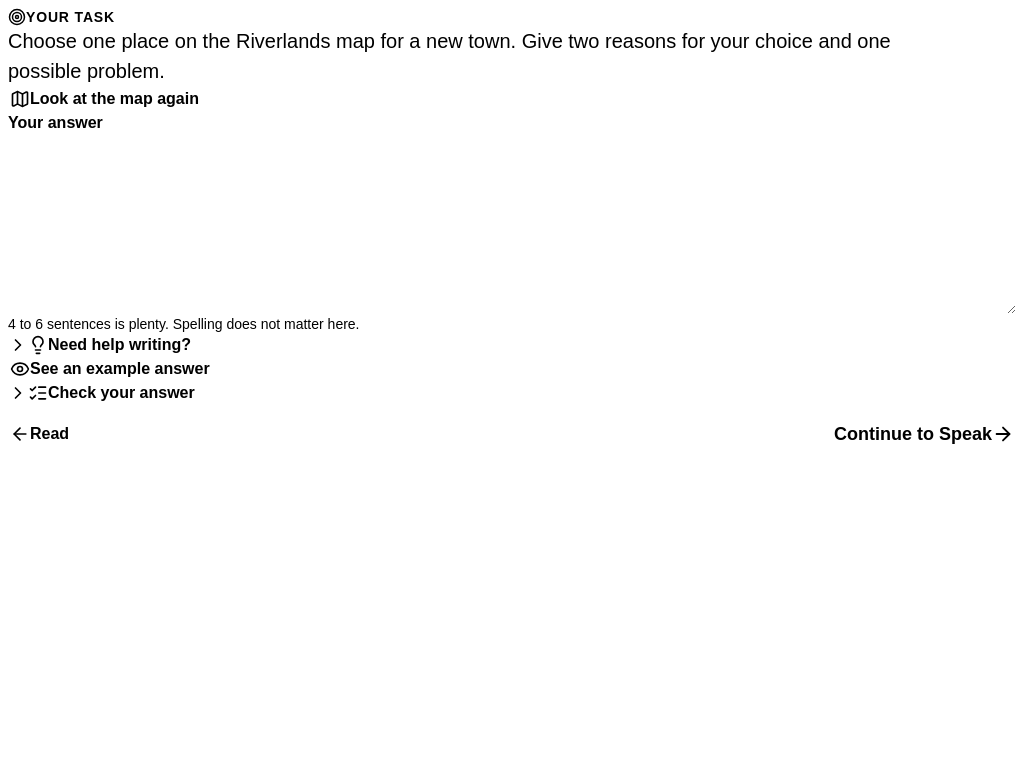
Test: WriteStage › keeps the example hidden until something is written, then offers it closed
Expected: the button "See an example answer" is shown, [8,356,212,382]
In the text box labelled "Your answer": [512, 224] box [8,134,1016,314], type "Near the river."
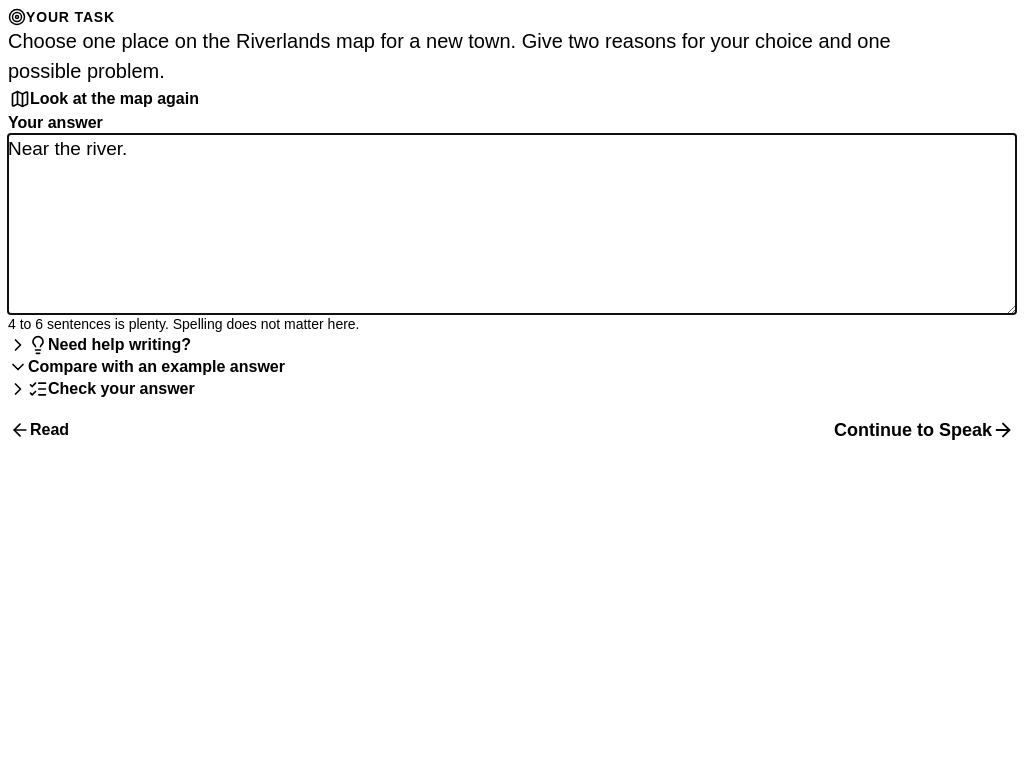
Expected: the button "See an example answer" is gone
Click the heading "Compare with an example answer": [146, 367] box [8,357,285,377]
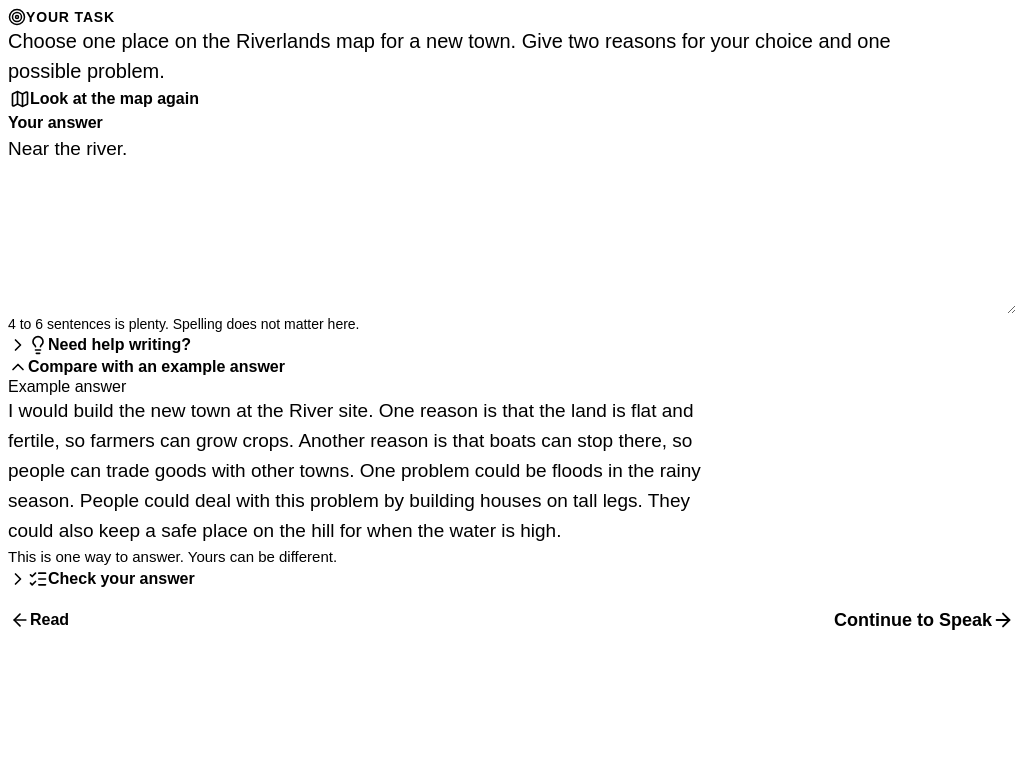
Expected: the text "I would build the new town at the River site. One reason is that the land is flat and fertile, so farmers can grow crops" is shown, [8,400,701,541]
